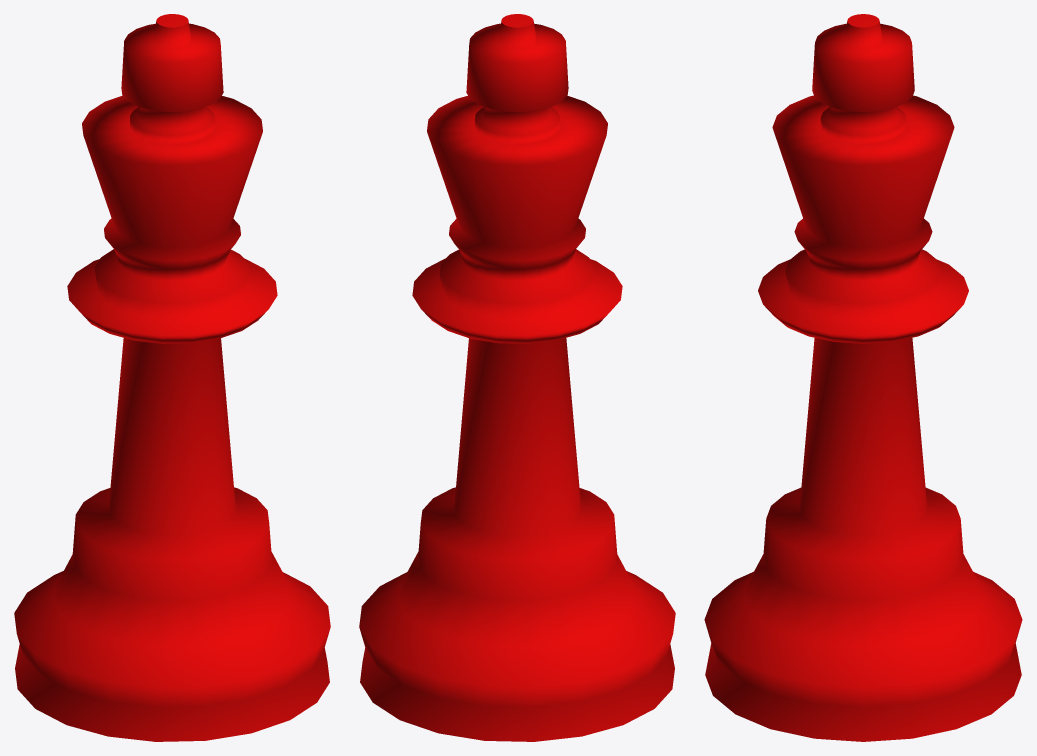
The model's file is SM_king.fbx.
3 views of the same model, side by side, from view 1: azimuth 30°, elevation 25°; view 2: azimuth 150°, elevation 25°; view 3: azimuth 270°, elevation 25° (orthographic).
Visible parts, largest first — view 1: SM_King; view 2: SM_King; view 3: SM_King.
Boxes of the visible parts, bbox=[...] form: SM_King: bbox=[14, 14, 330, 741]; SM_King: bbox=[359, 14, 675, 741]; SM_King: bbox=[704, 14, 1022, 741].
Bounding box in the file's own units: 1.62 × 3.67 × 1.62.
